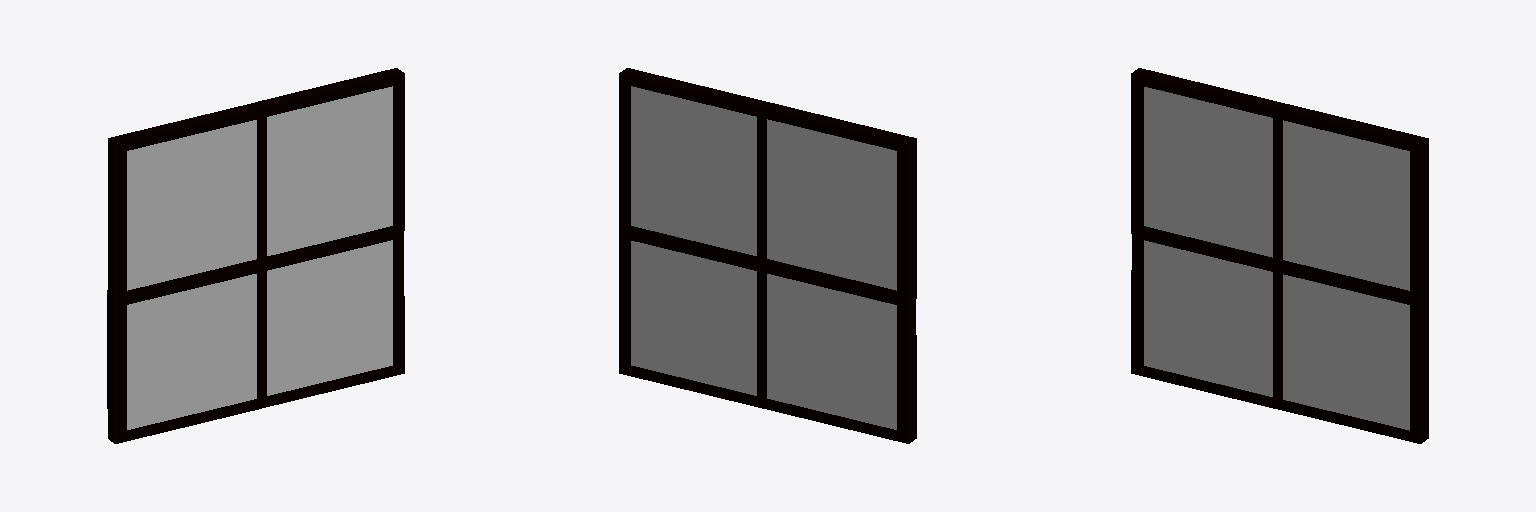
Rendered from window.obj.
3 renders of one model, left to right at view 1: azimuth 30°, elevation 25°; view 2: azimuth 150°, elevation 25°; view 3: azimuth 330°, elevation 25°, orthographic.
Bounding box in the file's own units: 4.31 × 4.27 × 0.2091.